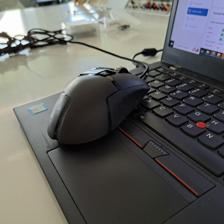mouse: (46, 65, 151, 145)
